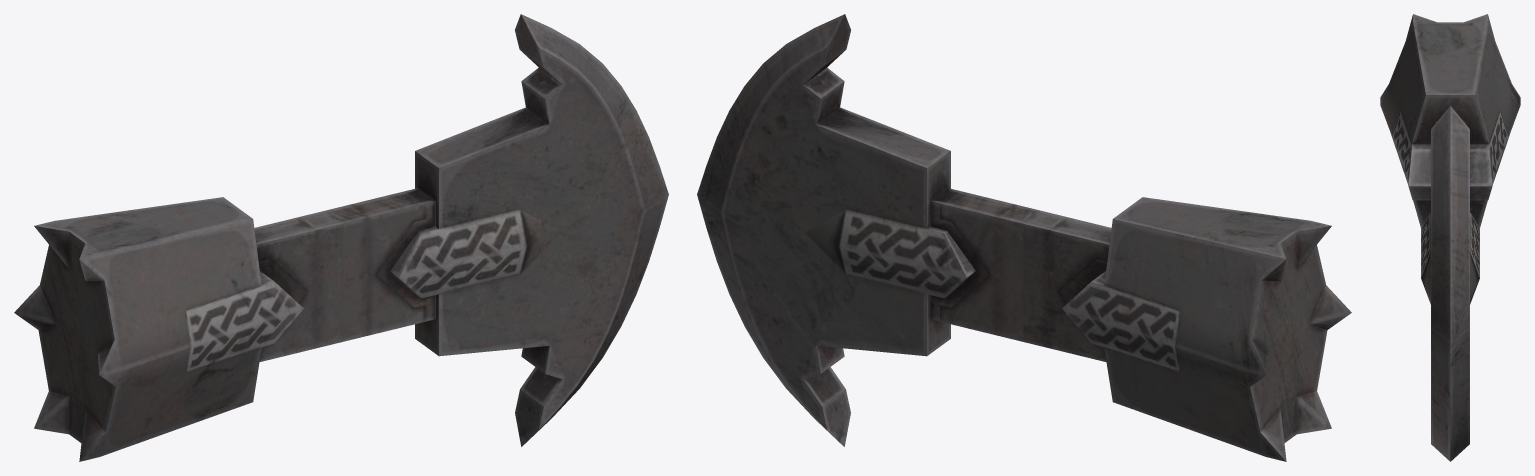
File: sm_dwarf_iron_axe_blade_a.fbx
3 renders of one model, left to right at view 1: azimuth 30°, elevation 25°; view 2: azimuth 150°, elevation 25°; view 3: azimuth 270°, elevation 25°, orthographic. The views are drawn at different scales.
Parts seen in each view (by area): view 1: sm_dwarf_iron_axe_blade_a; view 2: sm_dwarf_iron_axe_blade_a; view 3: sm_dwarf_iron_axe_blade_a.
Part boxes in pixels (box(x1,y1,x2,y2)): sm_dwarf_iron_axe_blade_a: box(14, 14, 668, 461); sm_dwarf_iron_axe_blade_a: box(697, 14, 1351, 461); sm_dwarf_iron_axe_blade_a: box(1380, 14, 1520, 461).
Bounding box in the file's own units: 0.5935 × 0.143 × 0.4015.
